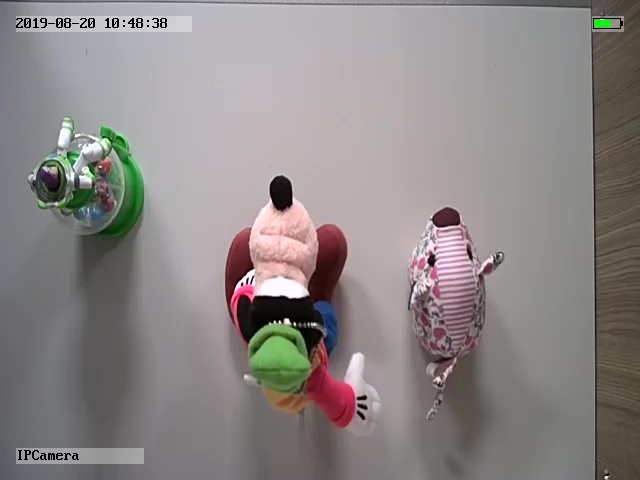buzz: (25, 114, 145, 239)
goofy: (220, 174, 383, 440)
pig: (403, 204, 508, 420)
